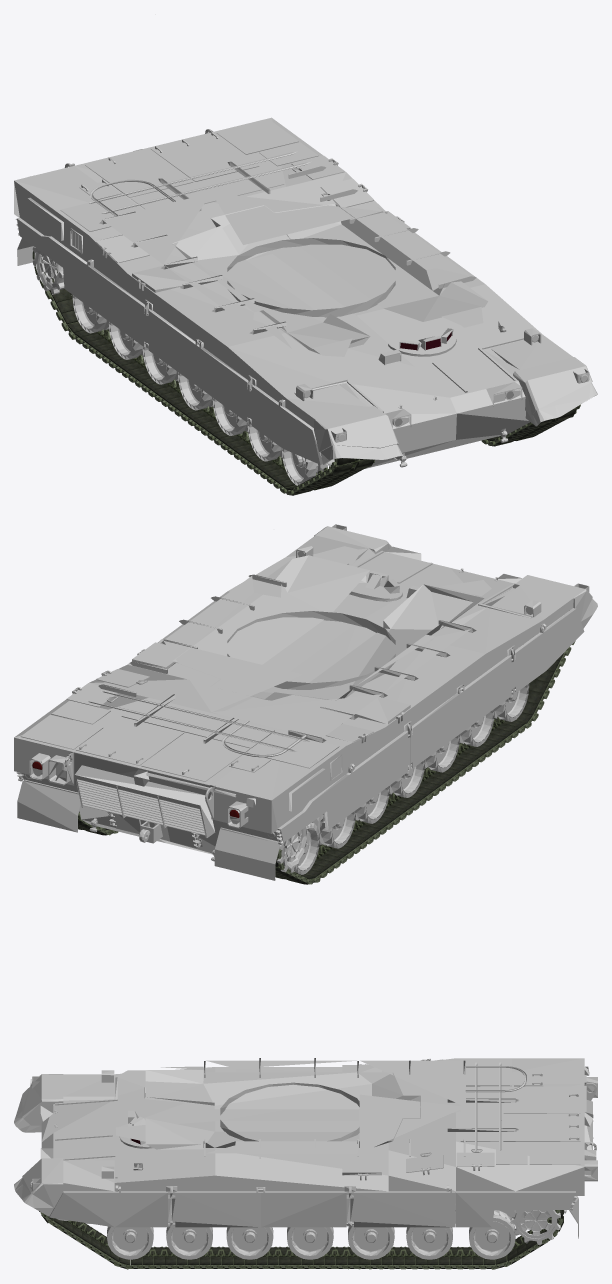
Rendered from tank_body.FBX.
3 renders of one model, top to bottom at view 1: azimuth 30°, elevation 25°; view 2: azimuth 150°, elevation 25°; view 3: azimuth 270°, elevation 25°, orthographic. The views are drawn at different scales.
Parts seen in each view (by area): view 1: AM84_011_00; view 2: AM84_011_00; view 3: AM84_011_00.
Part boxes in pixels (box(x1,y1,x2,y2)): AM84_011_00: box(14, 14, 597, 485); AM84_011_00: box(14, 524, 597, 880); AM84_011_00: box(14, 1058, 597, 1259).
Size of the model in its own units: 14436 by 16854 by 31755.
